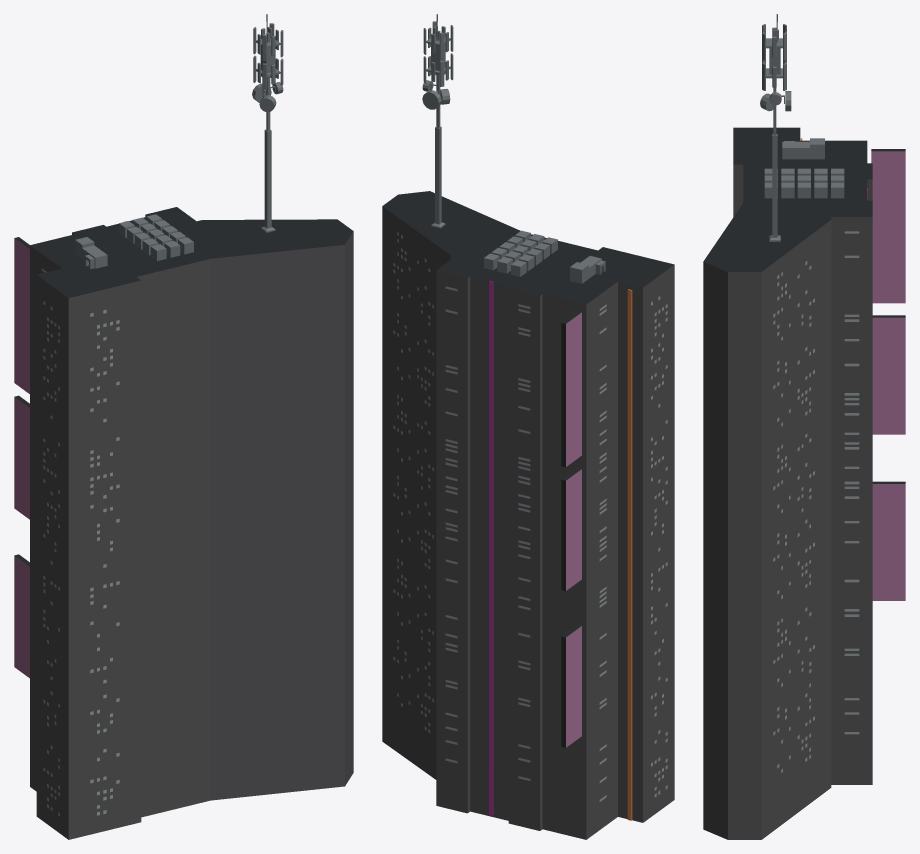
Rendered from hotel4.fbx.
3 renders of one model, left to right at view 1: azimuth 30°, elevation 25°; view 2: azimuth 150°, elevation 25°; view 3: azimuth 270°, elevation 25°, orthographic. The views are drawn at different scales.
Visible parts, largest first — view 1: Cuberpunk2077.006; view 2: Cuberpunk2077.006; view 3: Cuberpunk2077.006.
Part boxes in pixels (left/top/right/bottom): Cuberpunk2077.006: left=14, top=14, right=353, bottom=839; Cuberpunk2077.006: left=382, top=14, right=674, bottom=839; Cuberpunk2077.006: left=703, top=14, right=905, bottom=839.
Size of the model in its own units: 8463 by 21615 by 4995.
